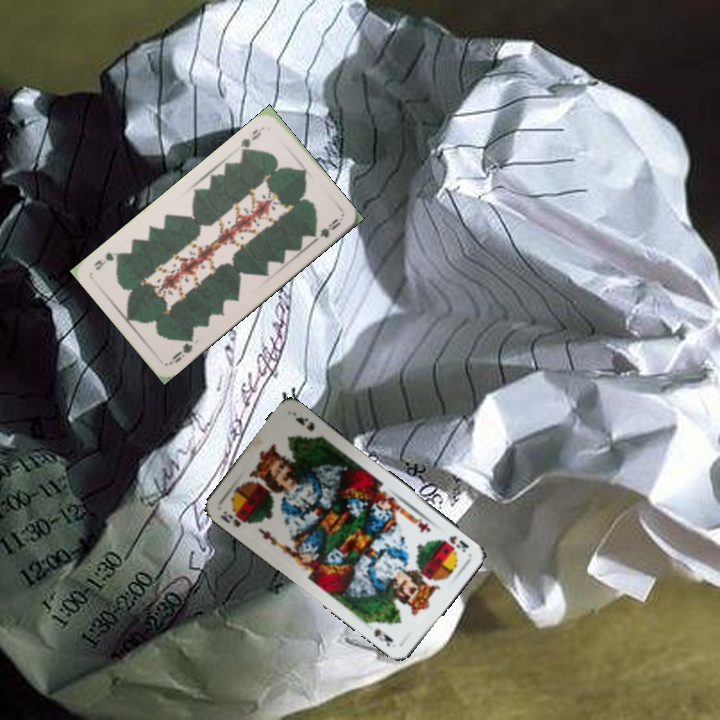G9: (236, 122, 267, 157), (166, 332, 196, 367)
SK: (216, 507, 253, 530), (445, 531, 472, 555)
